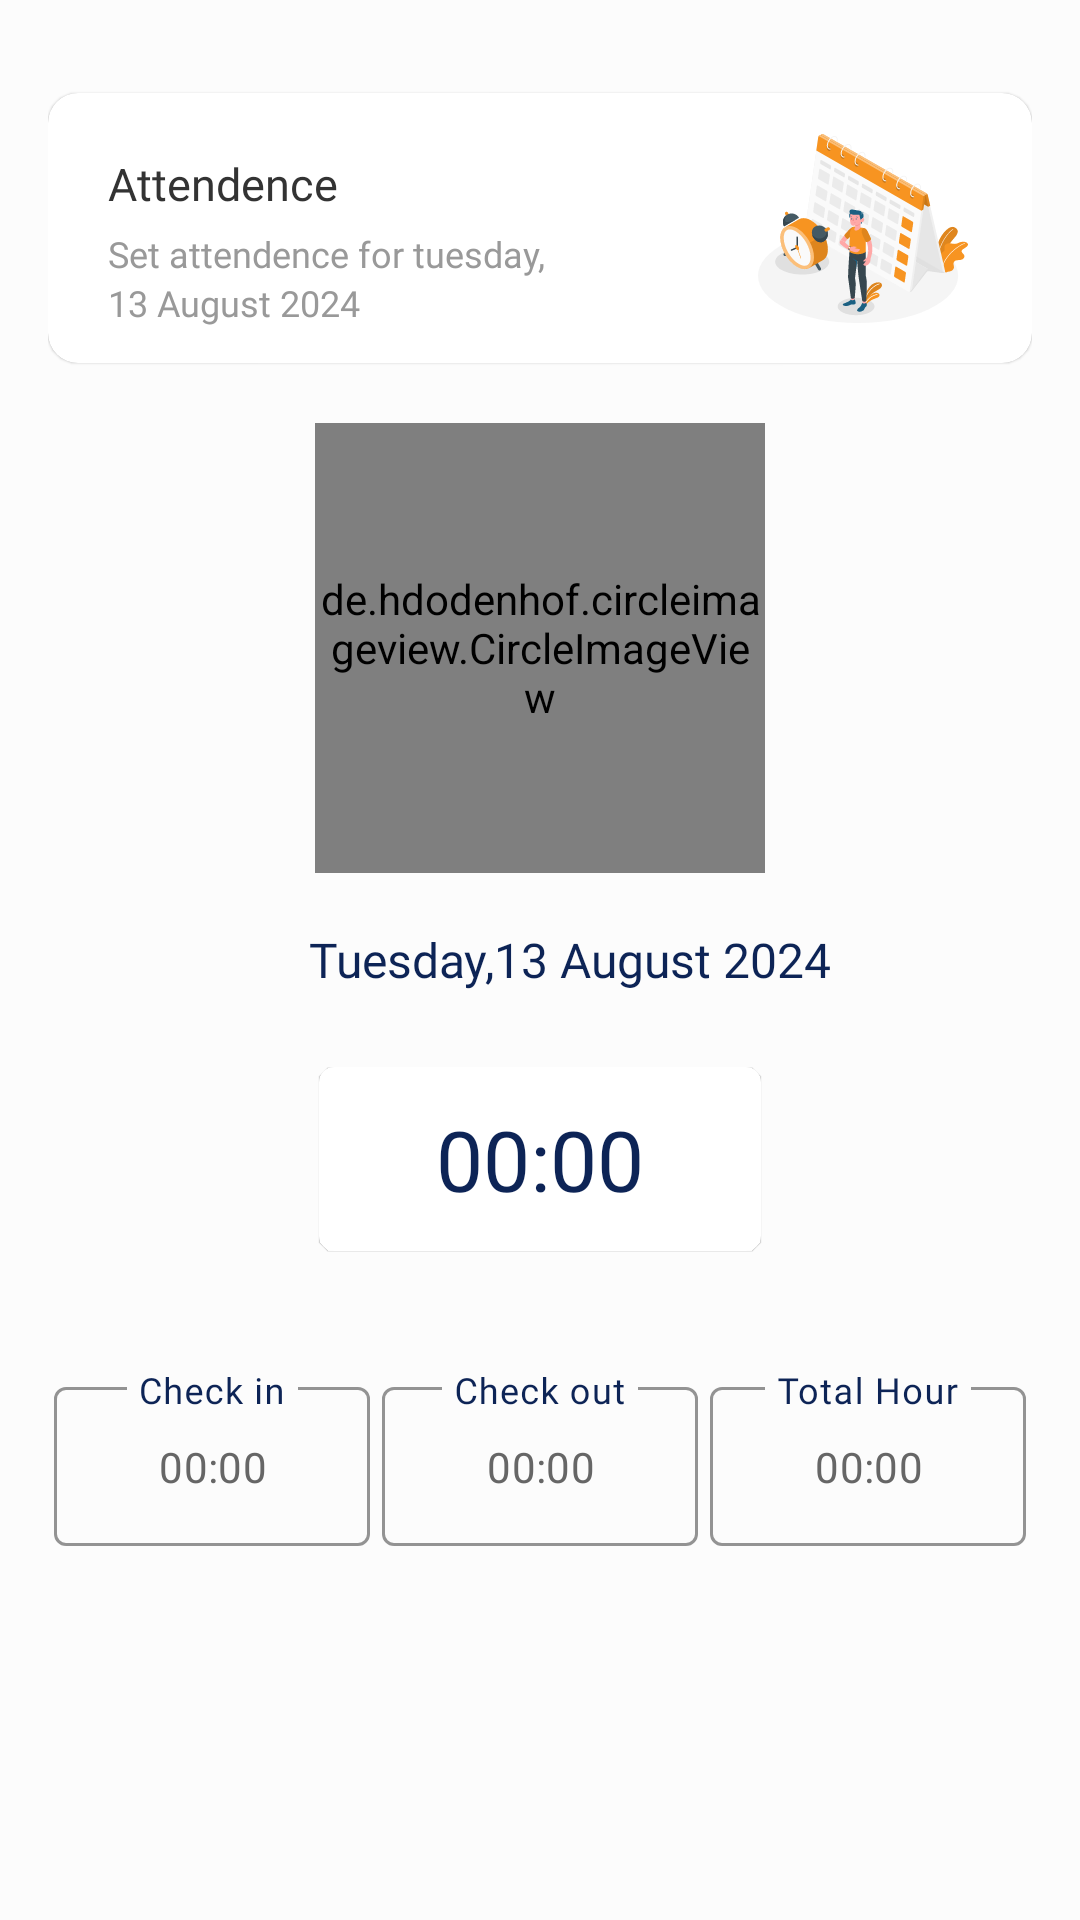

Icon bounding boxes for this 1080x1920 phone screenshot, format detection(x1, y1, x2, y2):
calendar dashboard: detection(775, 134, 968, 315)
